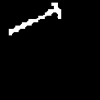half_double_crochet: (9, 3, 60, 34)
